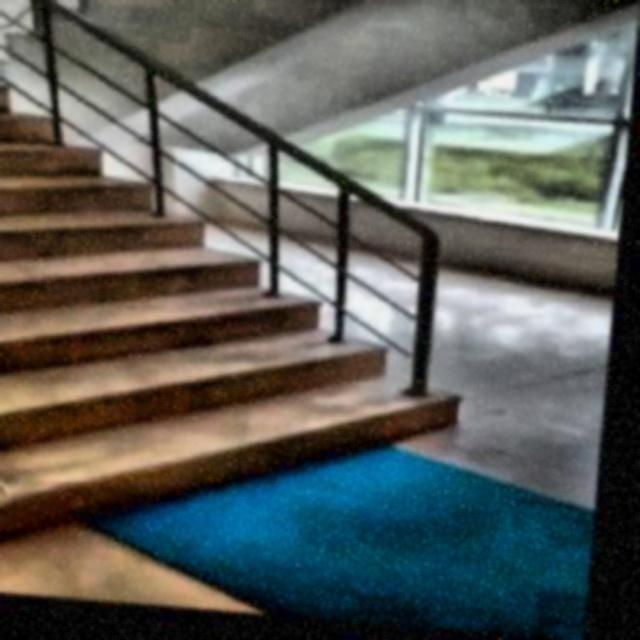stair: (2, 92, 506, 610)
